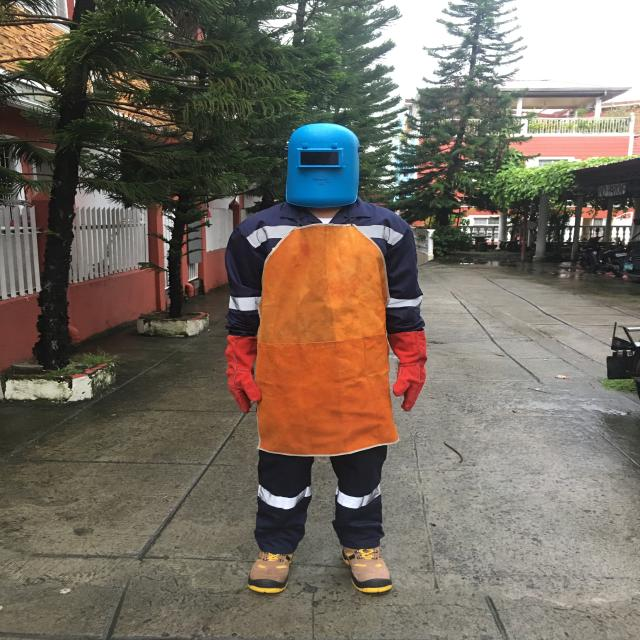with_helmet: (268, 118, 374, 210)
